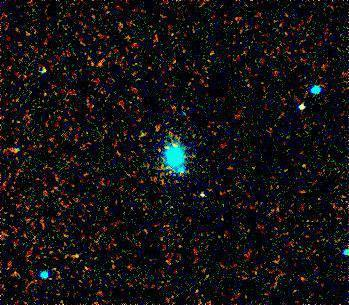star: (130, 119, 160, 149)
